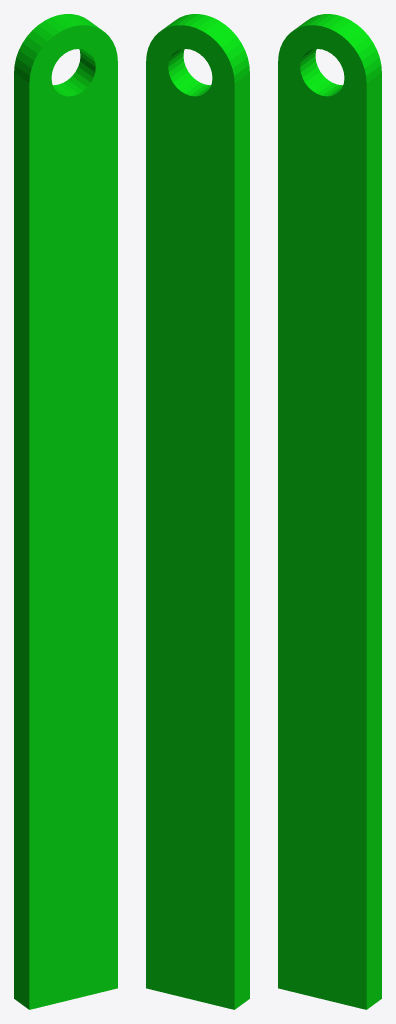
The model's file is pole.dae.
3 renders of one model, left to right at view 1: azimuth 30°, elevation 25°; view 2: azimuth 150°, elevation 25°; view 3: azimuth 330°, elevation 25°, orthographic.
Visible parts, largest first — view 1: Pole; view 2: Pole; view 3: Pole.
Part boxes in pixels (<box>): Pole: <box>14,14,117,1009</box>; Pole: <box>146,14,249,1009</box>; Pole: <box>278,14,381,1009</box>.
Bounding box in the file's own units: 0.1 × 0.03 × 1.05.
